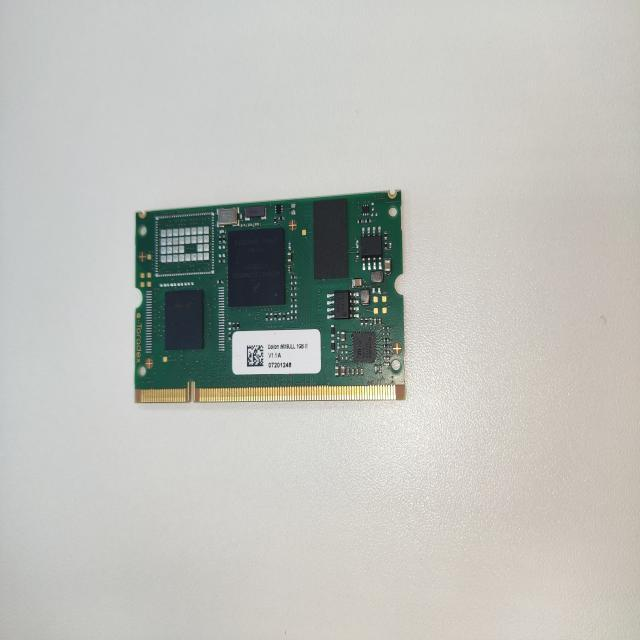som: (124, 179, 419, 419)
